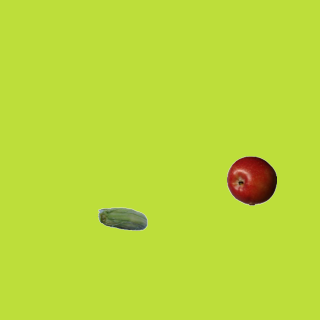Apple Braeburn: (226, 155, 276, 205)
Corn Husk: (97, 195, 147, 245)
